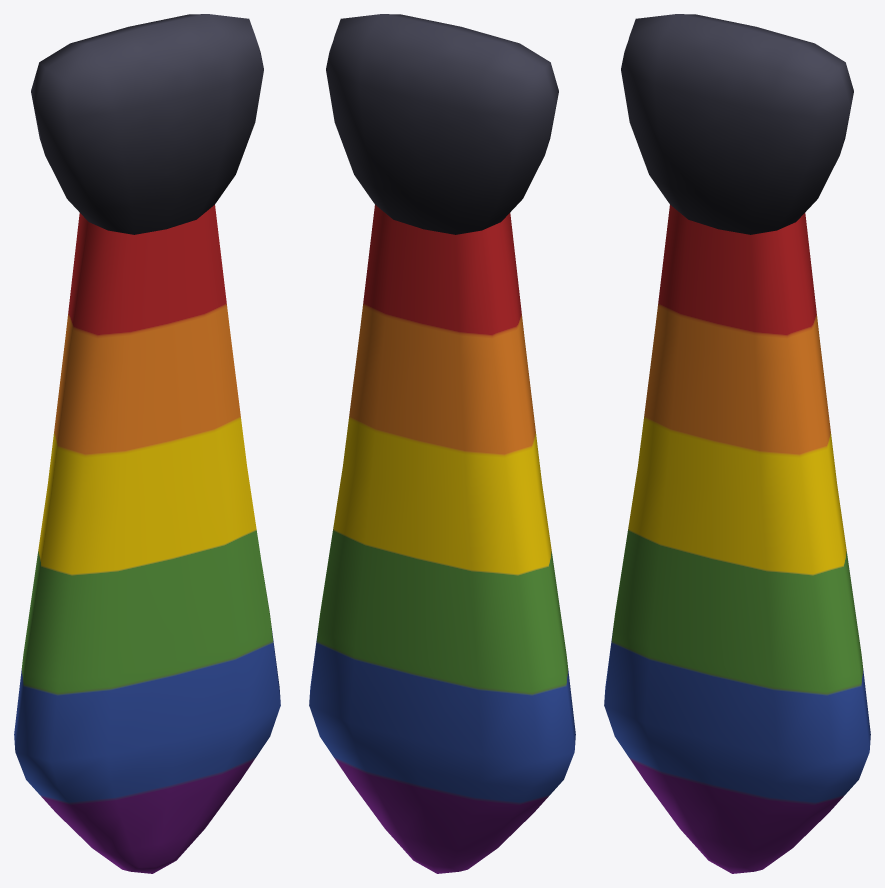
File: m_Pride_Tie01.fbx
The picture shows the model from 3 angles, left to right: view 1: azimuth 30°, elevation 25°; view 2: azimuth 150°, elevation 25°; view 3: azimuth 330°, elevation 25°; orthographic projection.
Parts seen in each view (by area): view 1: m_Pride_Tie01; view 2: m_Pride_Tie01; view 3: m_Pride_Tie01.
Boxes of the visible parts, x1,y1,x2,y2 form: m_Pride_Tie01: (14, 14, 280, 873); m_Pride_Tie01: (309, 14, 575, 873); m_Pride_Tie01: (604, 14, 870, 873).
Size of the model in its own units: 9.19 by 28.11 by 3.39.
